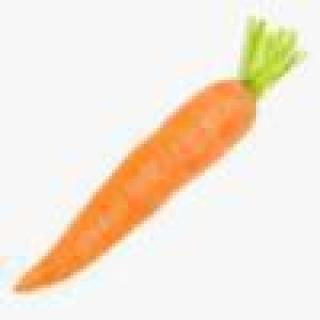Wortel: (1, 14, 308, 295)
